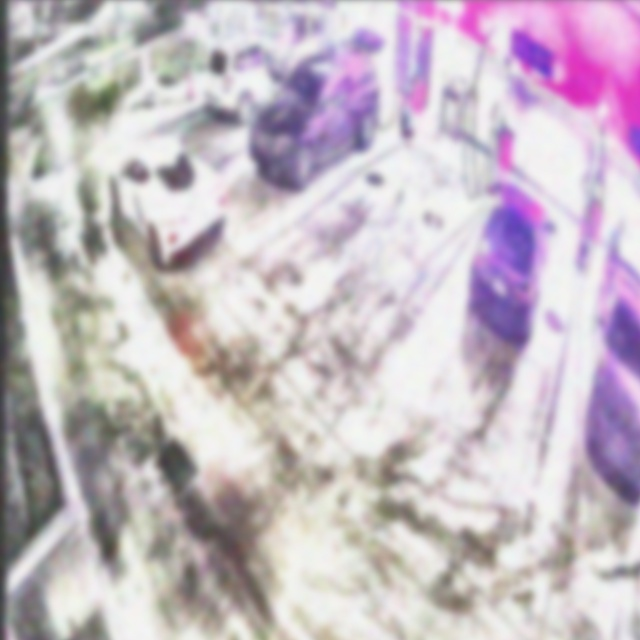Car: (250, 47, 382, 189), (110, 131, 228, 269), (471, 182, 555, 345)
